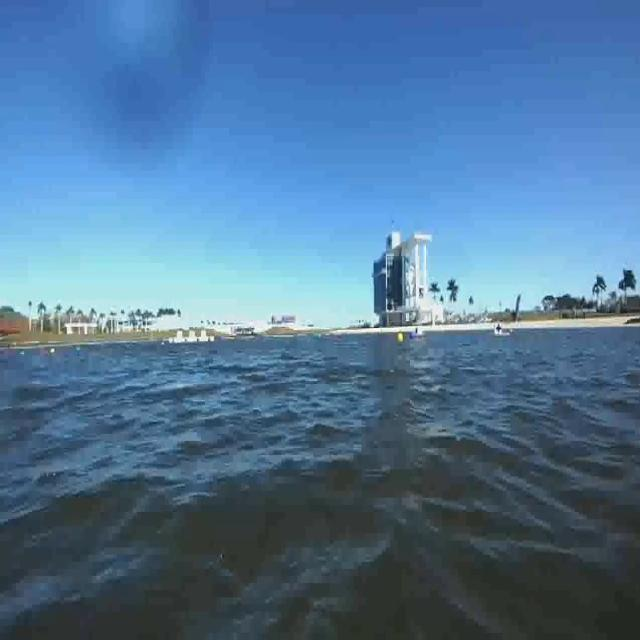yellow-buoy: (396, 332, 404, 346)
